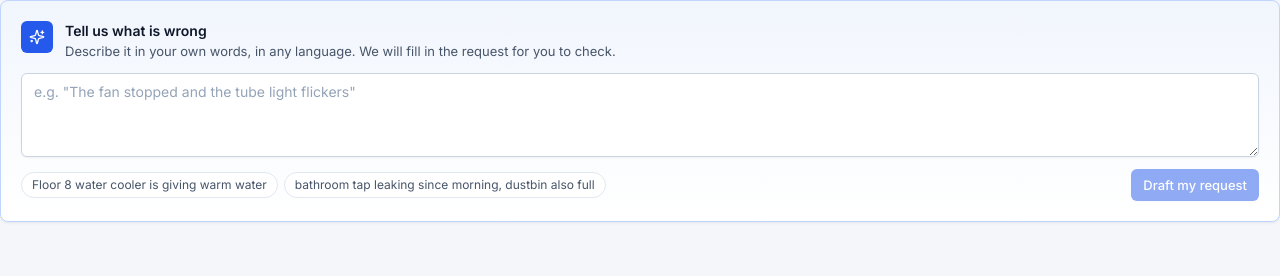
Test: RequestAssistant › asks back when nothing could be drafted
The image size is (1280, 276).
Type "help" into the text box named "describe the problem" at point(640, 115), box [21,73,1259,157]
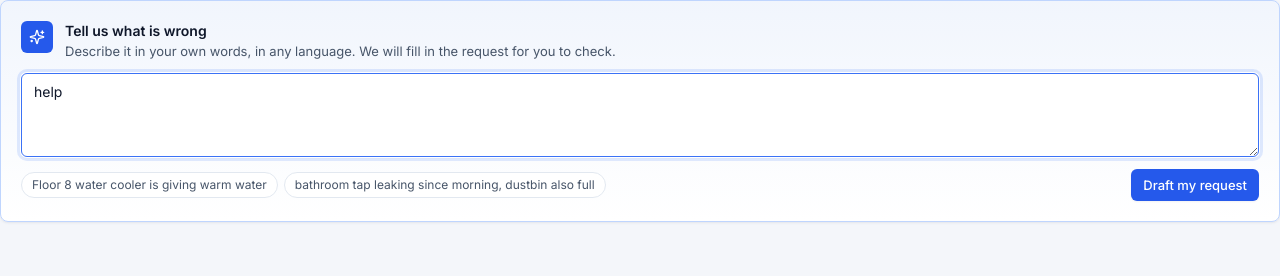
Click the button "Draft my request" at point(1195, 185), box [1131,169,1259,201]
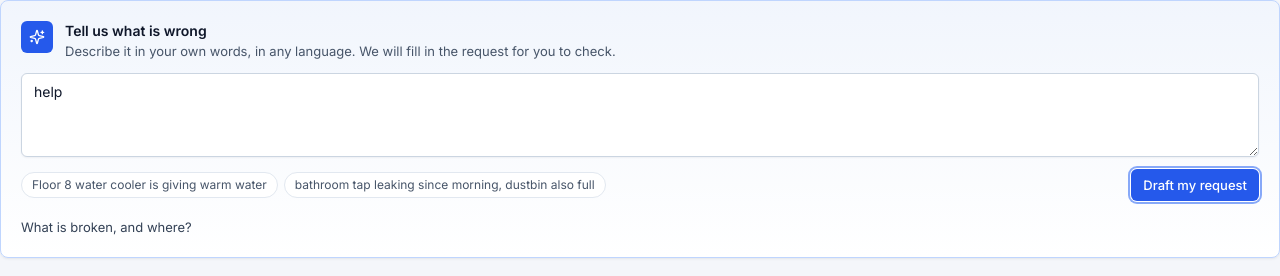
Expected: the text "What is broken, and where?" is shown, [21,219,192,235]
